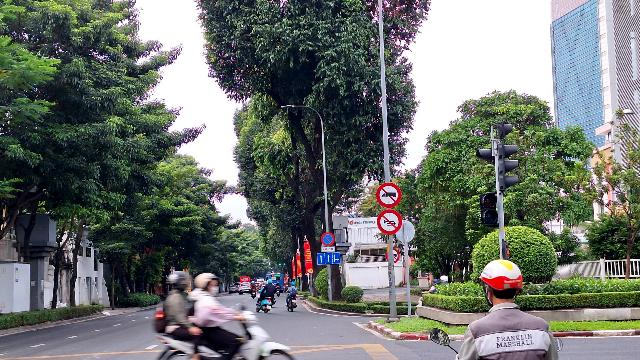cam-bop-coi: (376, 209, 402, 235)
cam-do-xe: (320, 232, 335, 246)
